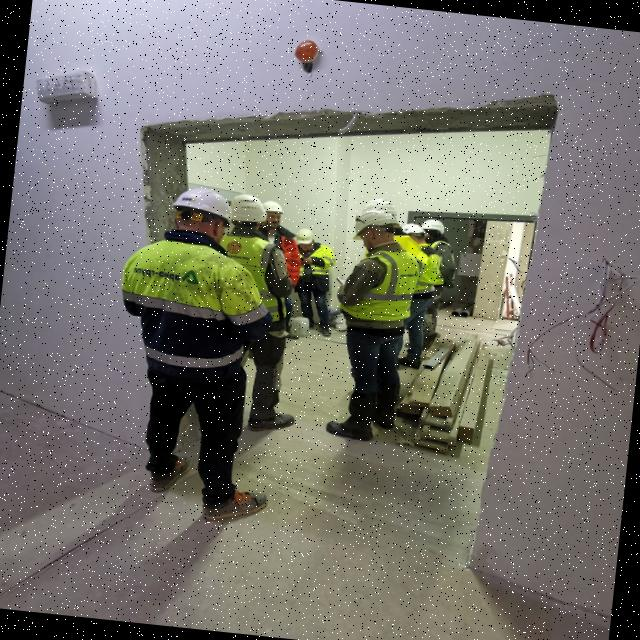Helmet: (170, 186, 237, 230), (351, 210, 402, 246), (228, 194, 268, 229), (362, 197, 399, 216), (261, 201, 286, 222), (295, 229, 317, 248), (421, 219, 446, 234), (403, 224, 429, 238)
Jacket: (115, 218, 258, 374), (345, 237, 420, 333), (219, 225, 289, 321), (408, 239, 444, 299), (292, 245, 334, 293)
